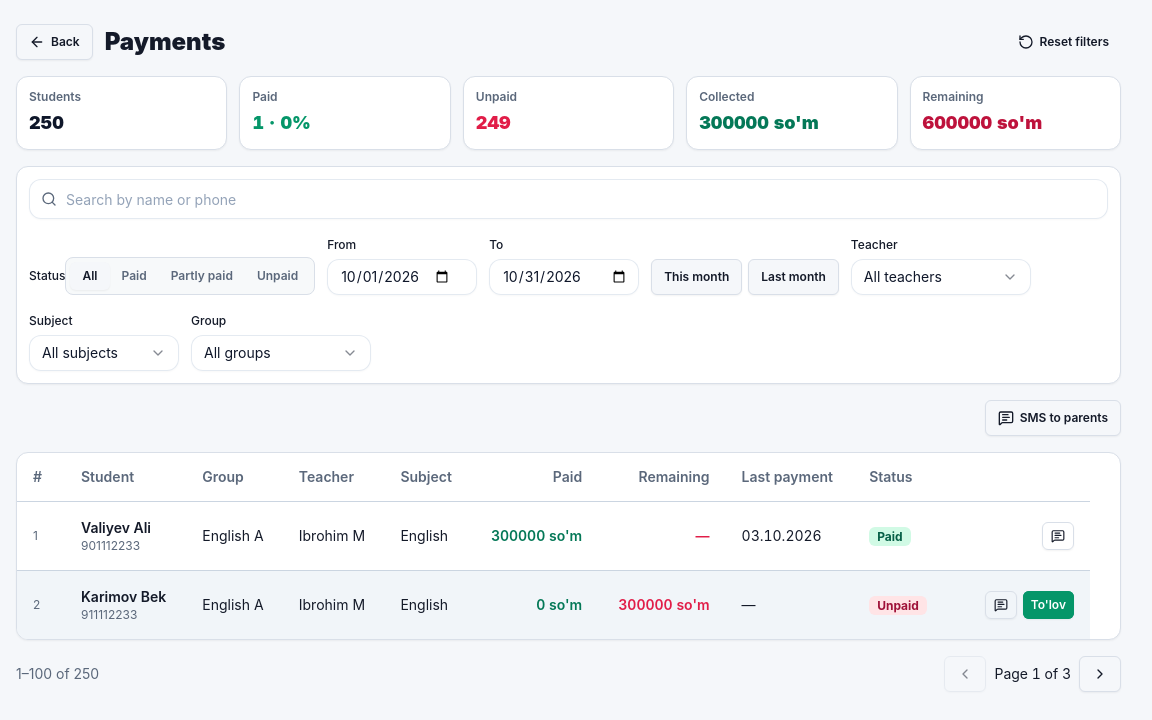
it: dashboard payments page › filters by status and pages through 100 at a time
Expected: the text "Valiyev Ali" is shown, [81,518,151,536]
Click the radio button labelled "Unpaid". click: (278,276)
box: [245,262,310,290]
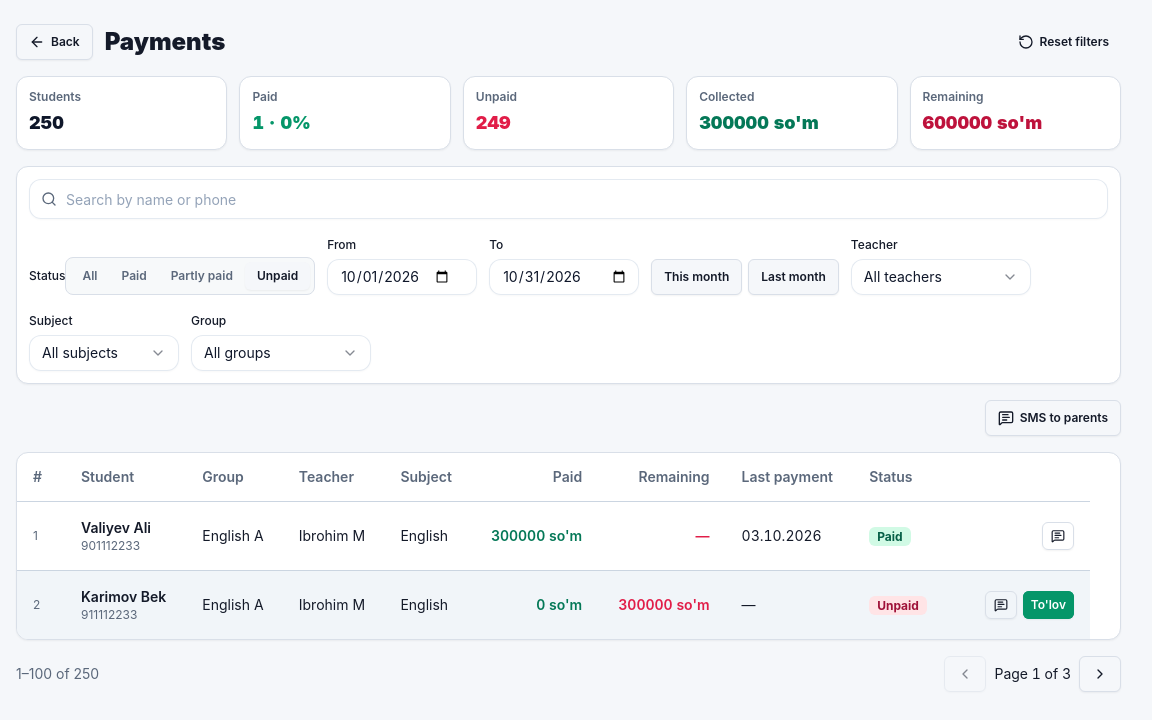
Click the button named "Next page". click: (1100,674)
box: [1079,656,1121,692]
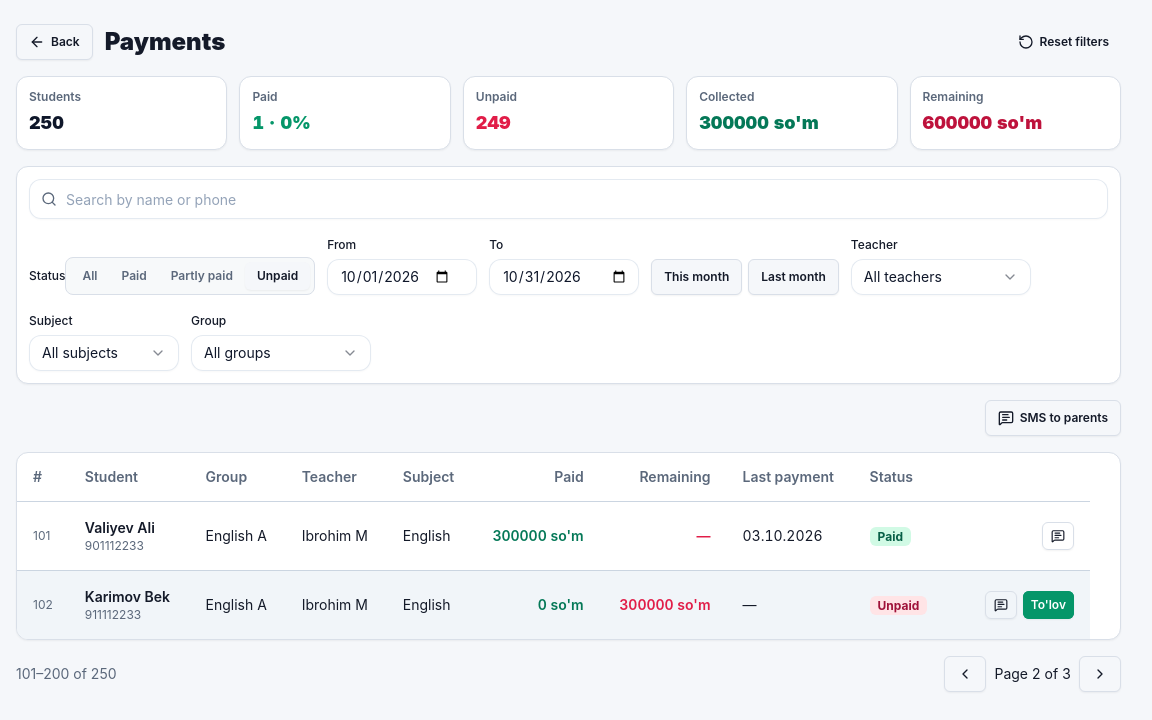
Expected: the text "101–200 of 250" is shown, [16,664,117,684]
